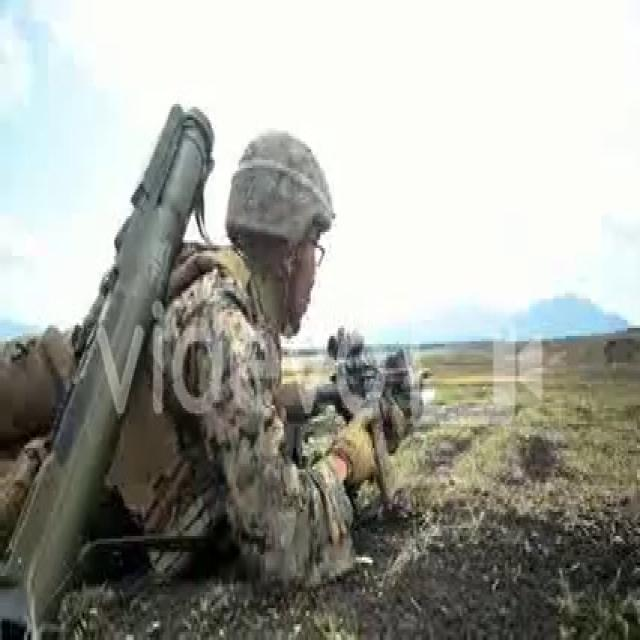bazooka: (1, 92, 221, 640)
